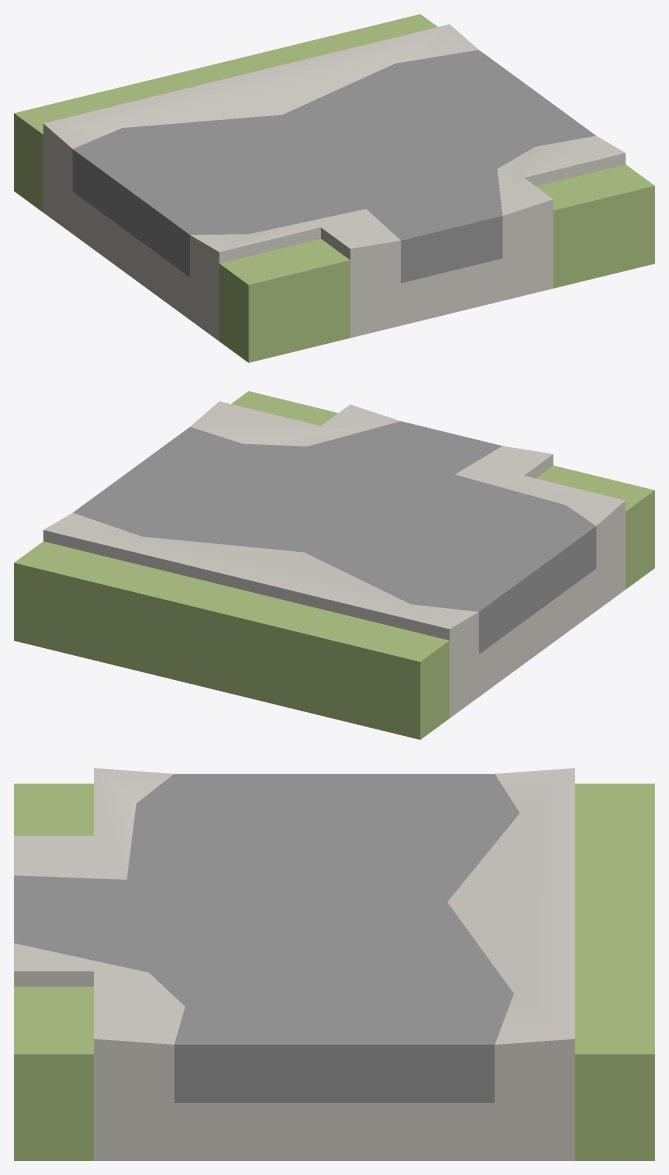
File: SM_ROAD_01.fbx
The picture shows the model from 3 angles, top to bottom: view 1: azimuth 30°, elevation 25°; view 2: azimuth 150°, elevation 25°; view 3: azimuth 270°, elevation 25°; orthographic projection. The views are drawn at different scales.
Visible parts, largest first — view 1: ROAD_01; view 2: ROAD_01; view 3: ROAD_01.
Boxes of the visible parts, left/top/right/bottom form: ROAD_01: left=14, top=14, right=654, bottom=362; ROAD_01: left=14, top=391, right=654, bottom=739; ROAD_01: left=14, top=768, right=654, bottom=1160.
Bounding box in the file's own units: 437 × 91.85 × 437.
